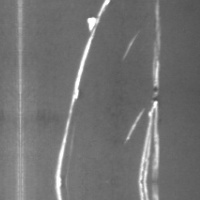scratches: (53, 0, 111, 180), (125, 0, 162, 180)
